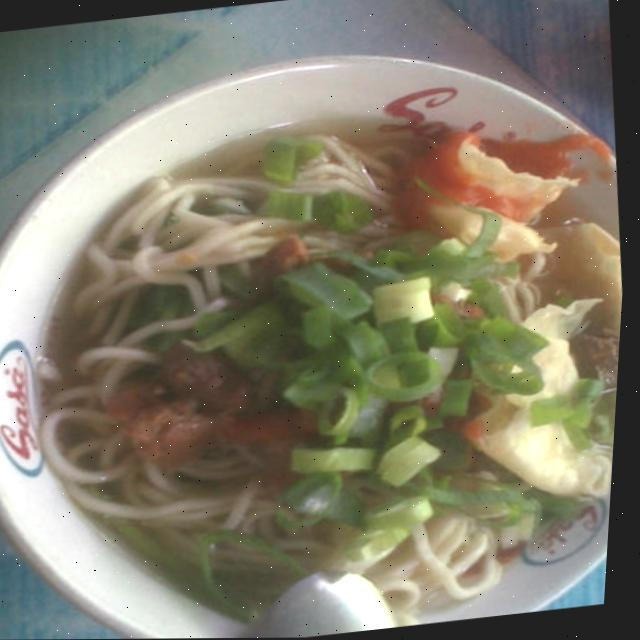面条主食: (0, 32, 638, 640)
